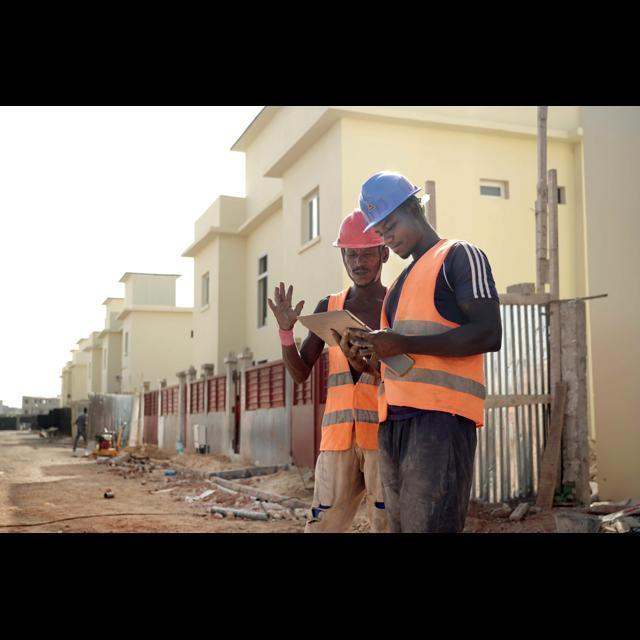helmet: (354, 166, 426, 238), (327, 202, 396, 260)
safety_vest: (368, 238, 507, 435), (316, 278, 396, 458)
